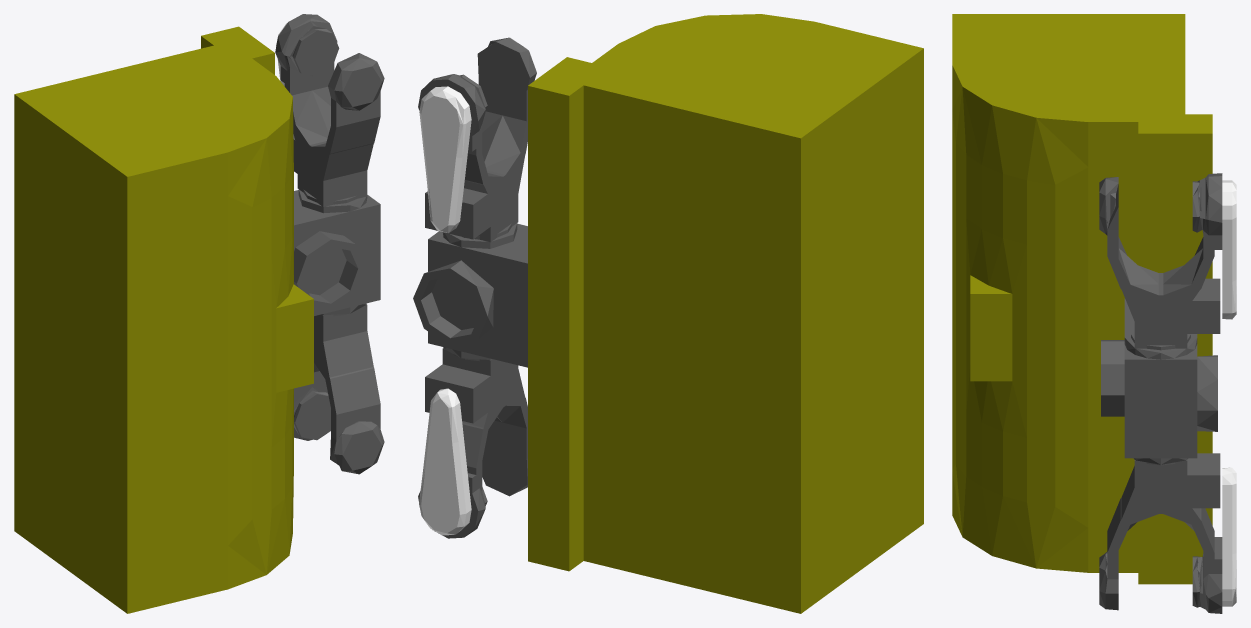
File: CHEST_LINK1_mesh.dae
3 renders of one model, left to right at view 1: azimuth 30°, elevation 25°; view 2: azimuth 150°, elevation 25°; view 3: azimuth 270°, elevation 25°, orthographic. The views are drawn at different scales.
Visible parts, largest first — view 1: CHEST_LINK1 (×4); view 2: CHEST_LINK1 (×6); view 3: CHEST_LINK1 (×6).
Part boxes in pixels (x1,y1,x2,y2): CHEST_LINK1 (×4): (14, 14, 384, 613); CHEST_LINK1 (×6): (413, 14, 923, 613); CHEST_LINK1 (×6): (952, 14, 1236, 613).
Bounding box in the file's own units: 0.447 × 0.548 × 0.3135.
